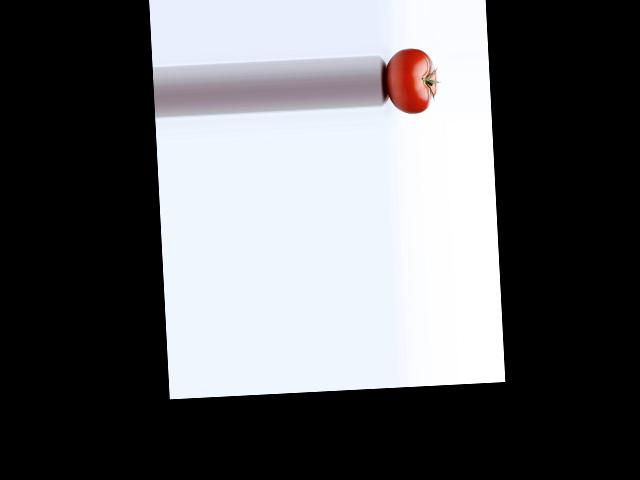tomato: (384, 47, 438, 115)
